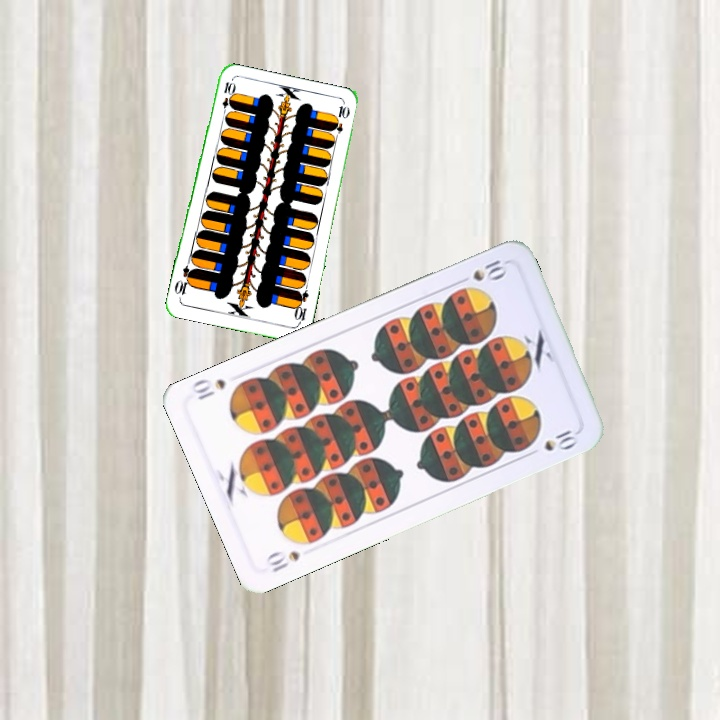E10: (290, 287, 311, 327), (218, 78, 236, 118)
S10: (453, 255, 510, 287), (261, 546, 303, 575)
